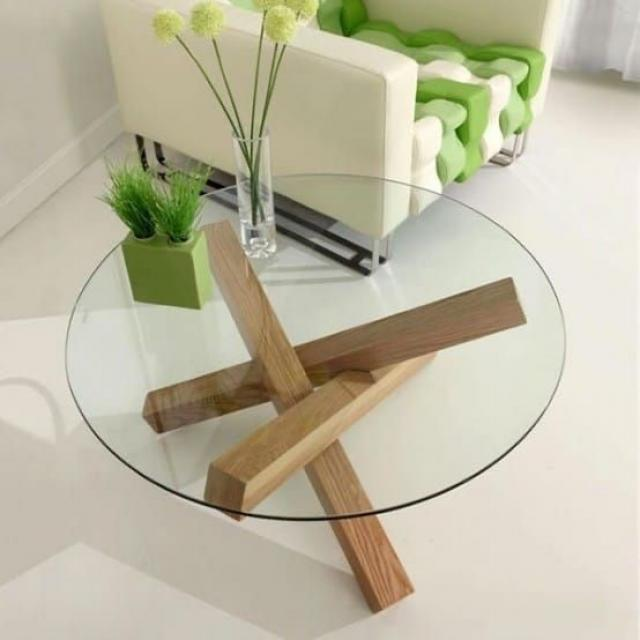table: (44, 106, 586, 632)
